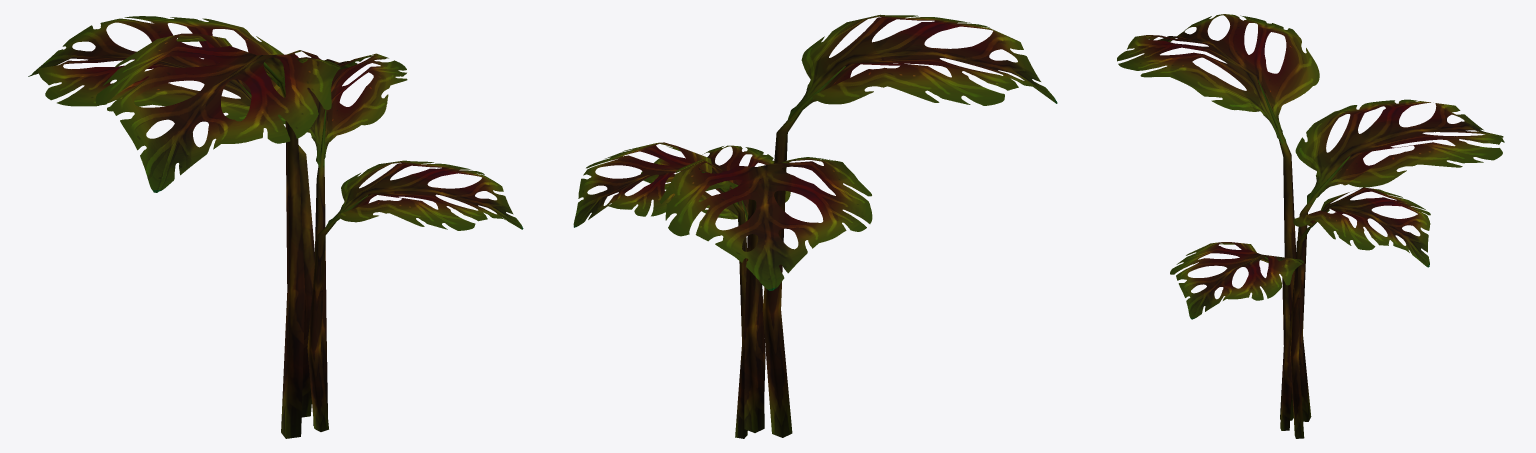
Rendered from vegetation-foliage01.glb.
3 views of the same model, side by side, from view 1: azimuth 30°, elevation 25°; view 2: azimuth 150°, elevation 25°; view 3: azimuth 270°, elevation 25° (orthographic). The views are drawn at different scales.
Size of the model in its own units: 1.06 by 1.05 by 1.15.
1 material, 1 textured.
